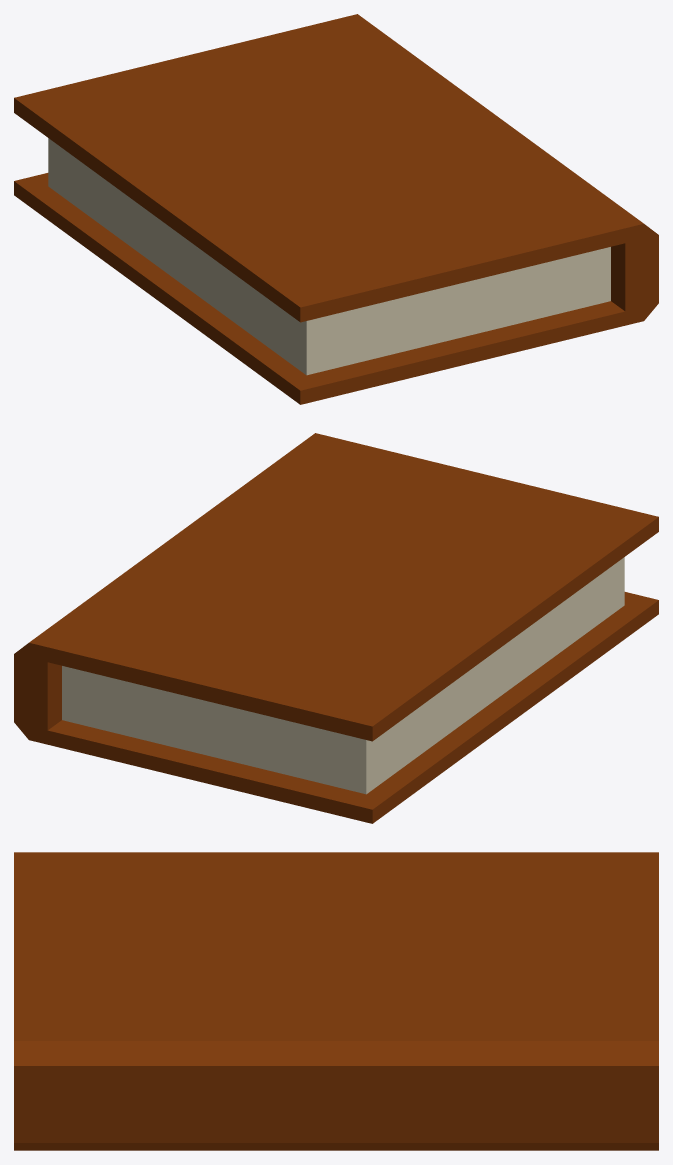
The model's file is ClosedBook.fbx.
3 views of the same model, one above another, from view 1: azimuth 30°, elevation 25°; view 2: azimuth 150°, elevation 25°; view 3: azimuth 270°, elevation 25° (orthographic). The views are drawn at different scales.
Parts seen in each view (by area): view 1: Cube; view 2: Cube; view 3: Cube.
Boxes of the visible parts, x1=… form: Cube: x1=14, y1=14, x2=658, y2=404; Cube: x1=14, y1=433, x2=658, y2=823; Cube: x1=14, y1=852, x2=658, y2=1150.
Bounding box in the file's own units: 40.78 × 10.59 × 56.44.
